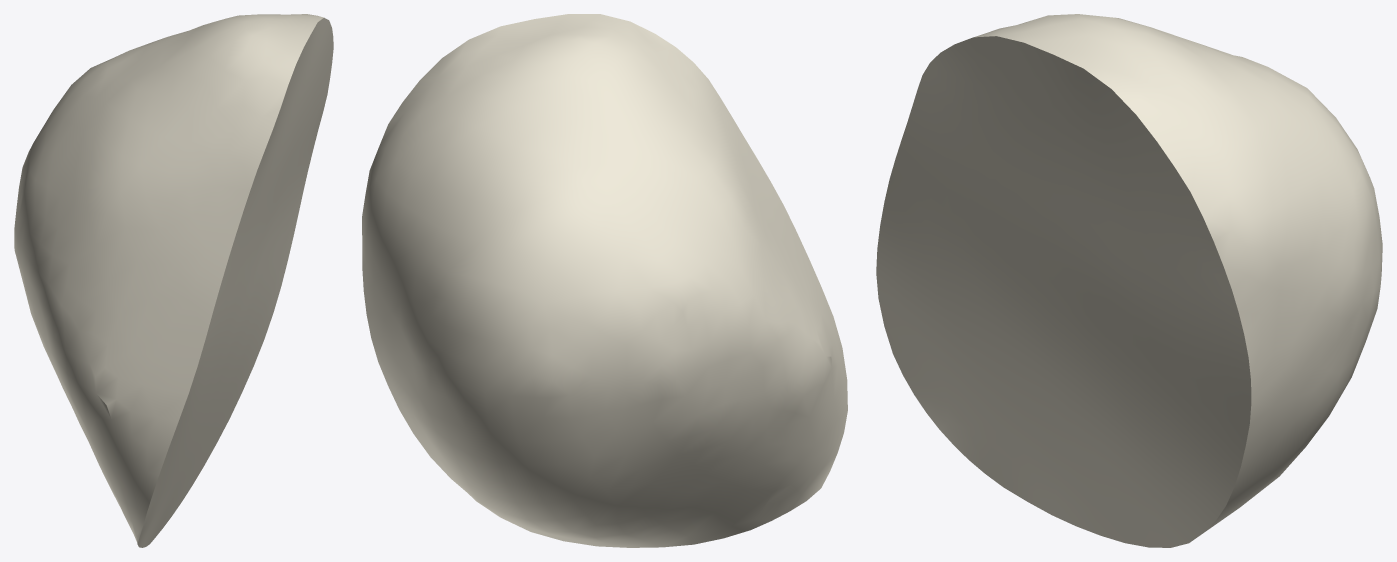
The model's file is fma16324_mm2342m.glb.
3 views of the same model, side by side, from view 1: azimuth 30°, elevation 25°; view 2: azimuth 150°, elevation 25°; view 3: azimuth 270°, elevation 25° (orthographic). The views are drawn at different scales.
Visible parts, largest first — view 1: FMA16324_MM2342M; view 2: FMA16324_MM2342M; view 3: FMA16324_MM2342M.
Part boxes in pixels (left/top/right/bottom): FMA16324_MM2342M: left=14, top=14, right=333, bottom=547; FMA16324_MM2342M: left=362, top=14, right=847, bottom=547; FMA16324_MM2342M: left=876, top=14, right=1382, bottom=547.
Size of the model in its own units: 0.00768 by 0.0101 by 0.00841.
